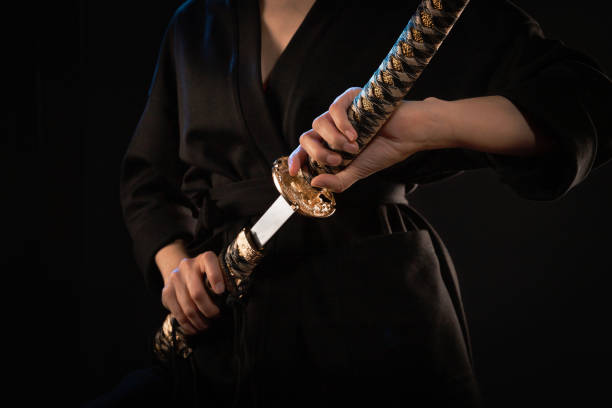knife: (249, 0, 472, 246)
